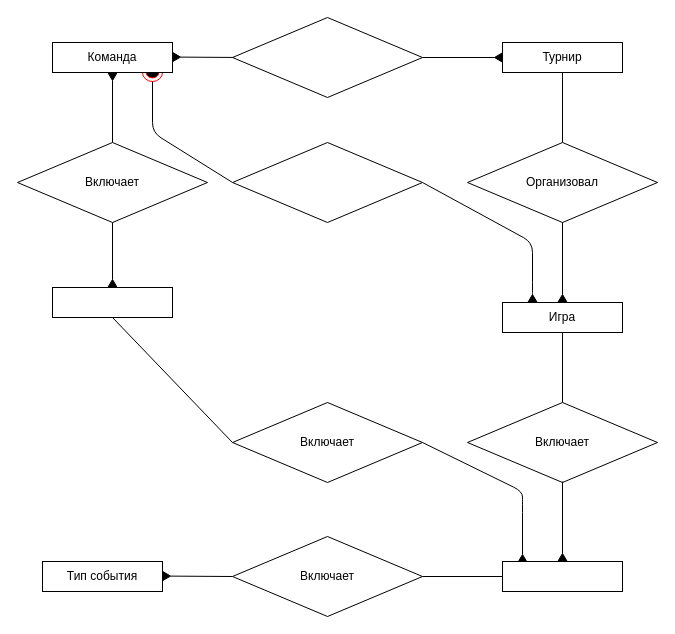
This 675x634 diagram has some shape labels left out. Here are the shapes that lost their labels. From the top down, the box of each, then its label:
(232, 16, 422, 98): Участвует
(232, 142, 422, 222): Играла
(52, 286, 172, 318): Игрок
(502, 560, 622, 592): Событие
